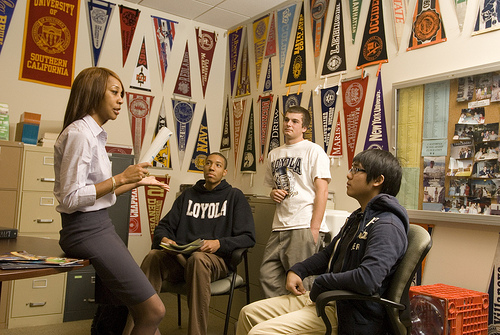Person: (57, 67, 164, 314), (328, 148, 406, 306), (267, 106, 323, 265), (181, 145, 237, 294)
